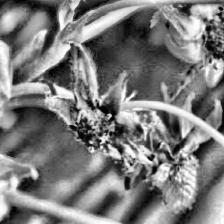Gray Mold: (38, 42, 162, 174)
